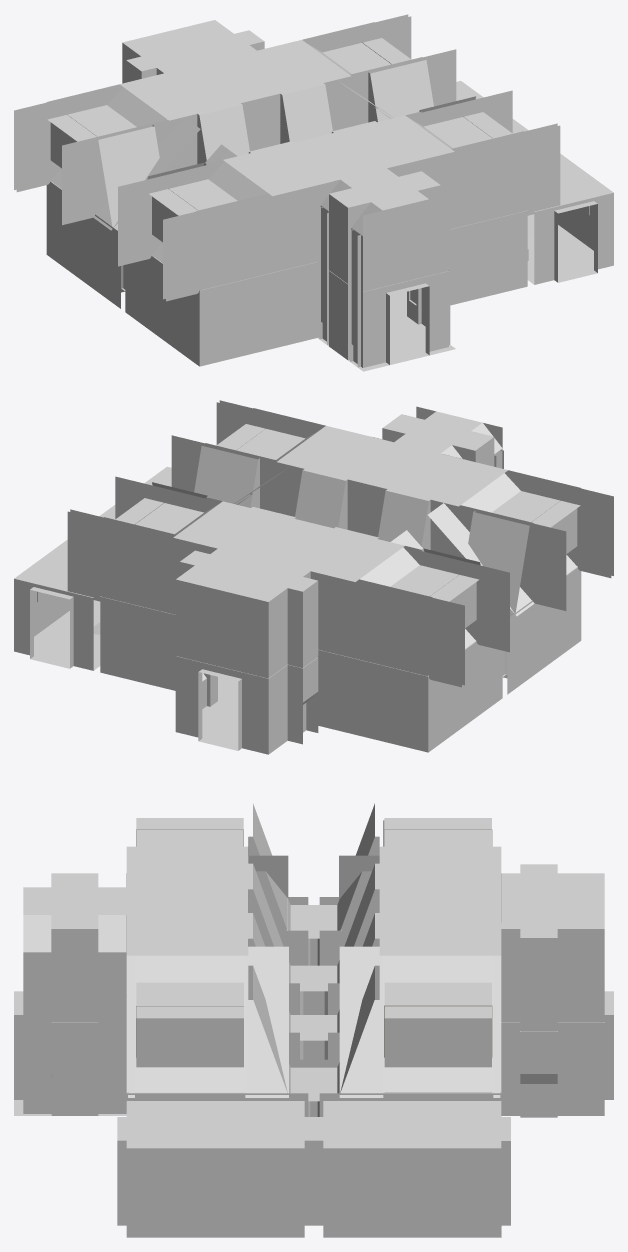
Rendered from room2_CheckpointLczHcz.fbx.
3 renders of one model, top to bottom at view 1: azimuth 30°, elevation 25°; view 2: azimuth 150°, elevation 25°; view 3: azimuth 270°, elevation 25°, orthographic. The views are drawn at different scales.
Parts seen in each view (by area): view 1: room2_CheckpointLczHcz; view 2: room2_CheckpointLczHcz; view 3: room2_CheckpointLczHcz.
Part boxes in pixels (x1,y1,x2,y2): room2_CheckpointLczHcz: (14,14,613,371); room2_CheckpointLczHcz: (14,400,613,754); room2_CheckpointLczHcz: (14,803,613,1237).
Bounding box in the file's own units: 21.6 × 7.04 × 20.48.
